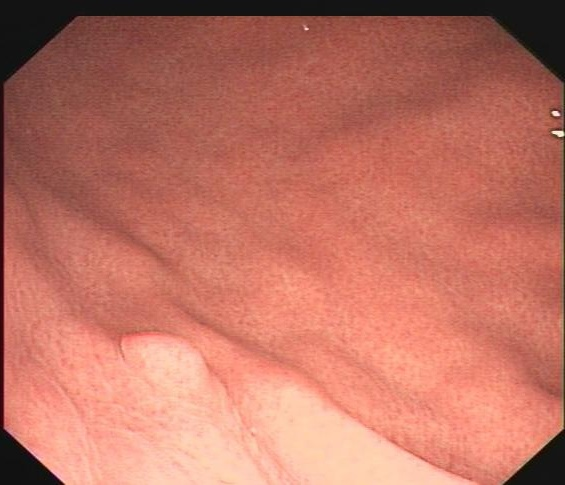Polyp: (121, 330, 211, 395)
